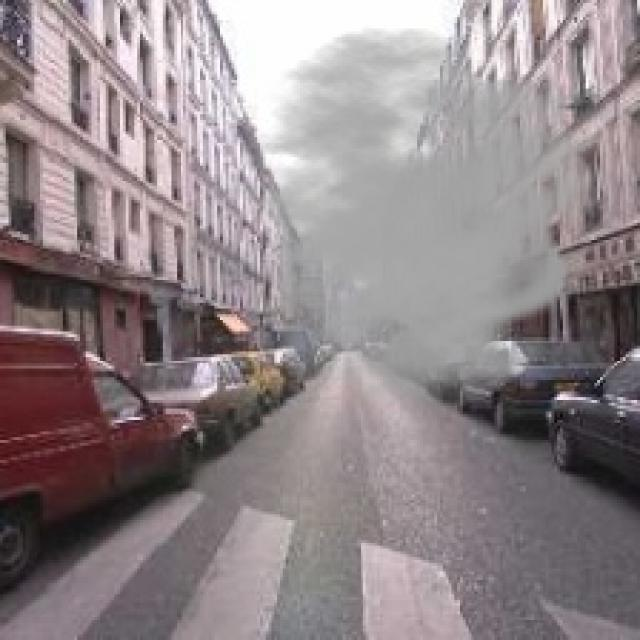smoke: (211, 26, 603, 411)
